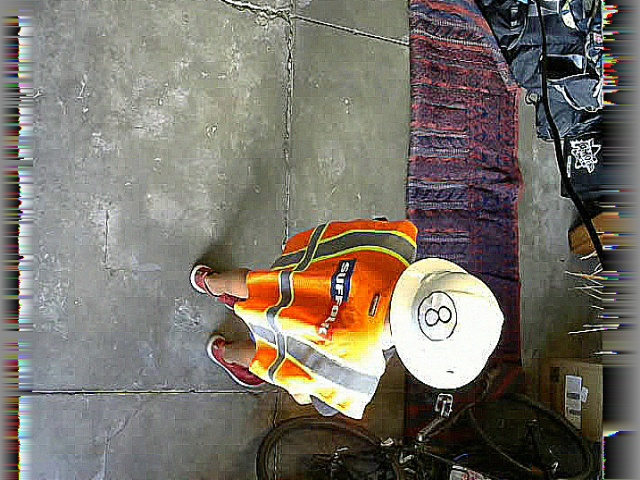eight: (417, 290, 458, 341)
